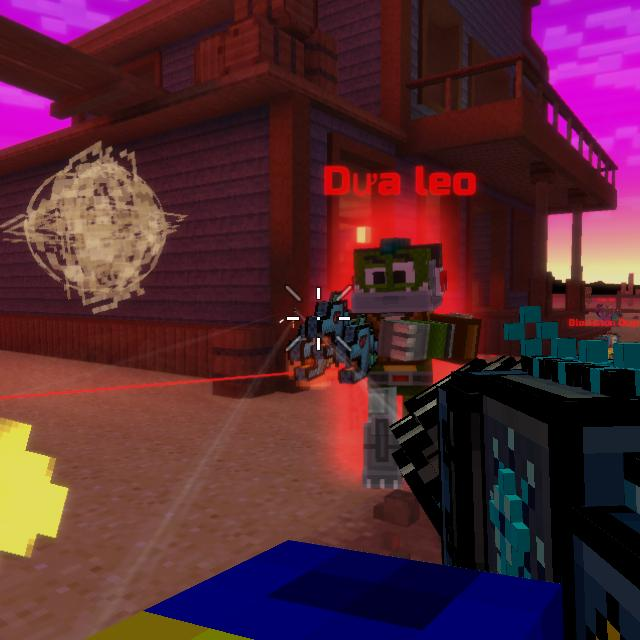Enemy: (300, 238, 485, 494)
